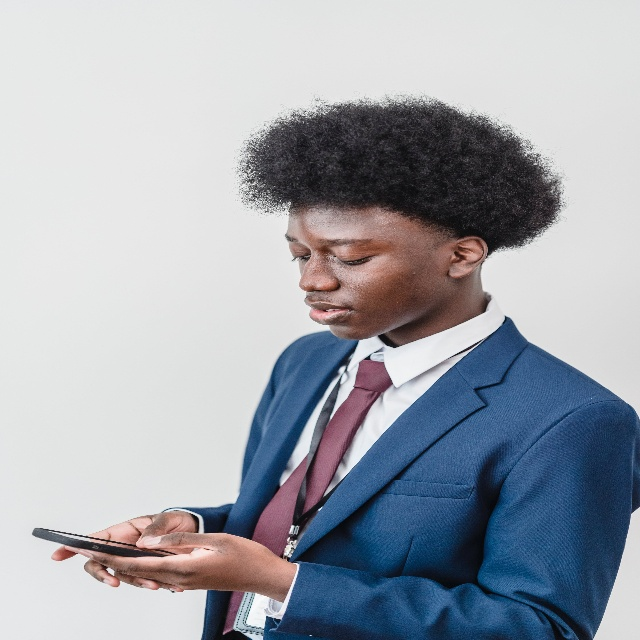Sin_guantes: (65, 541, 271, 607), (53, 514, 190, 581)
